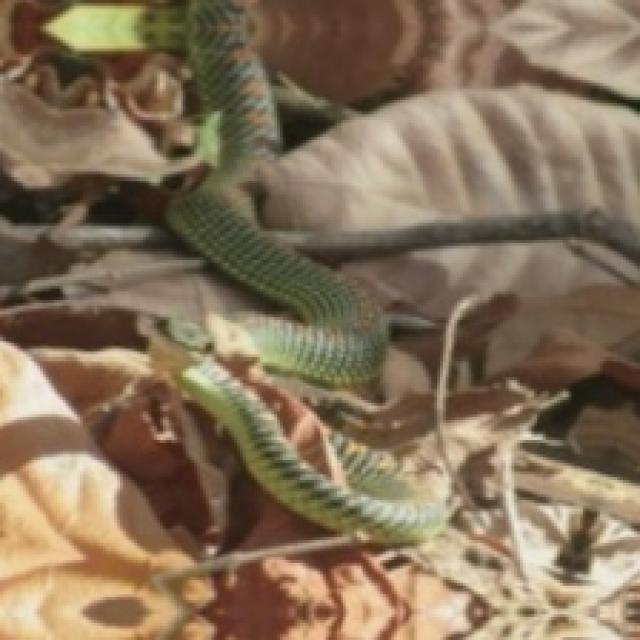paradise tree snake: (166, 0, 386, 383), (151, 320, 449, 543)
